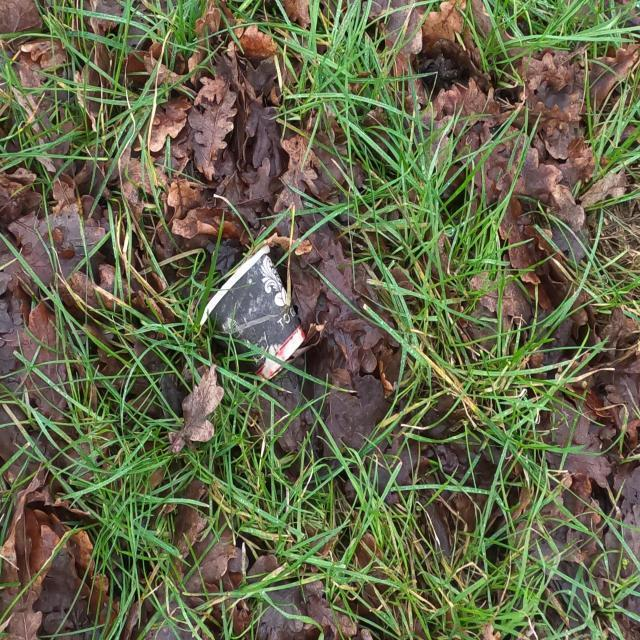Cup: (196, 242, 316, 388)
